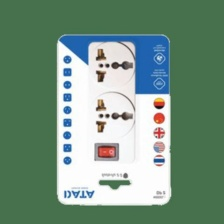book: (51, 32, 174, 207)
three_eye_plug: (84, 40, 136, 169)
